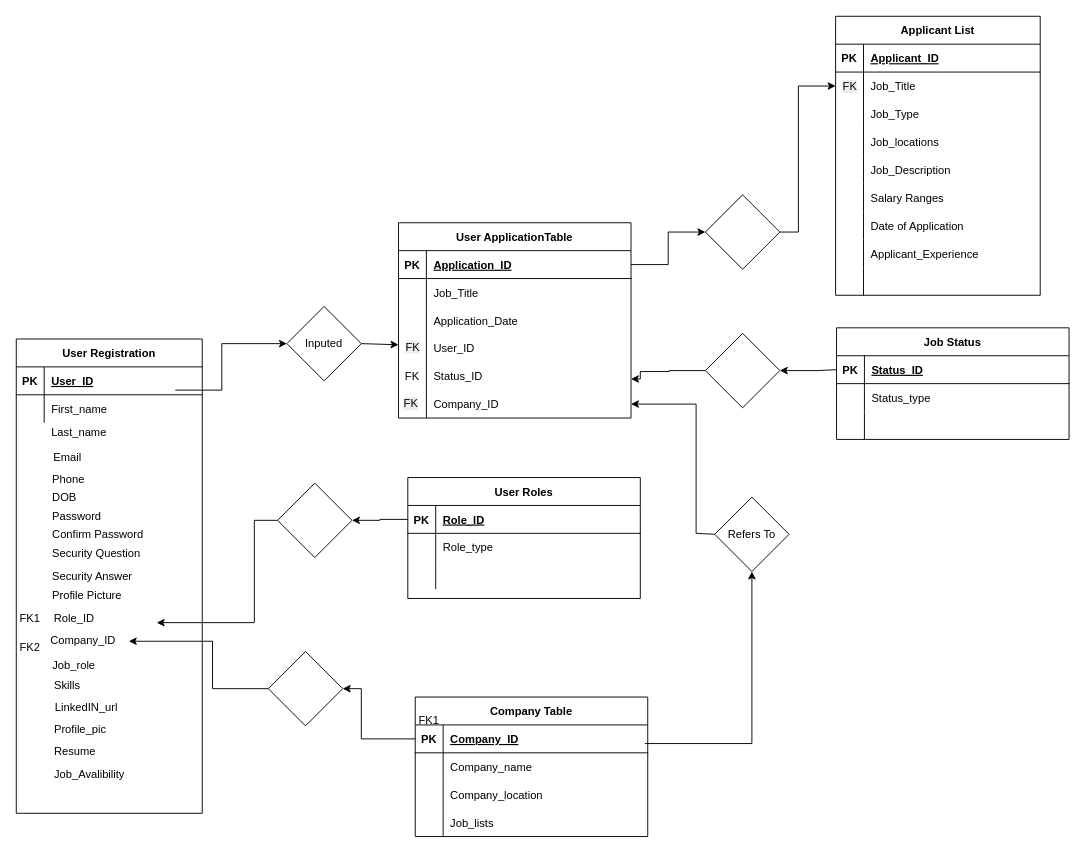
This 1085x853 diagram has some shape labels left out. Each missing label, with the centre of its shape:
Belongs To: [305,688]
Leads: [314,520]
Requires: [742,370]
retrives: [742,231]
